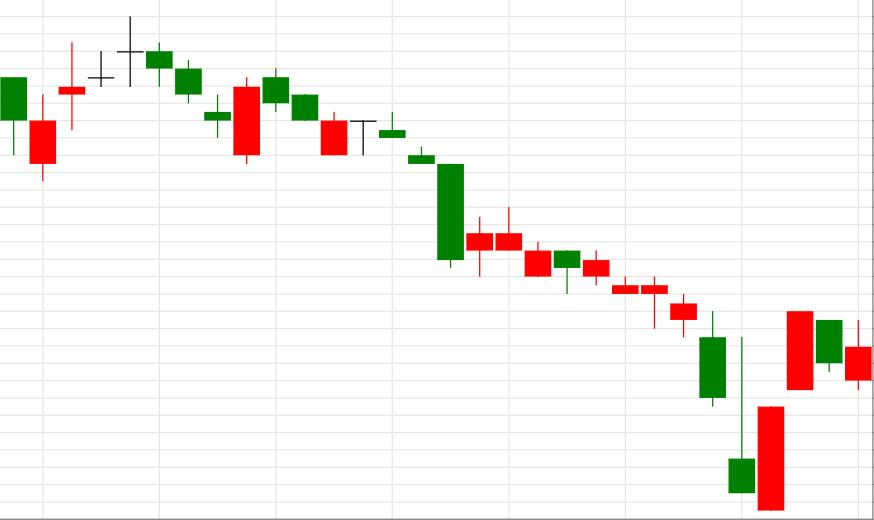inverse_hammer_rise: (466, 205, 755, 492)
